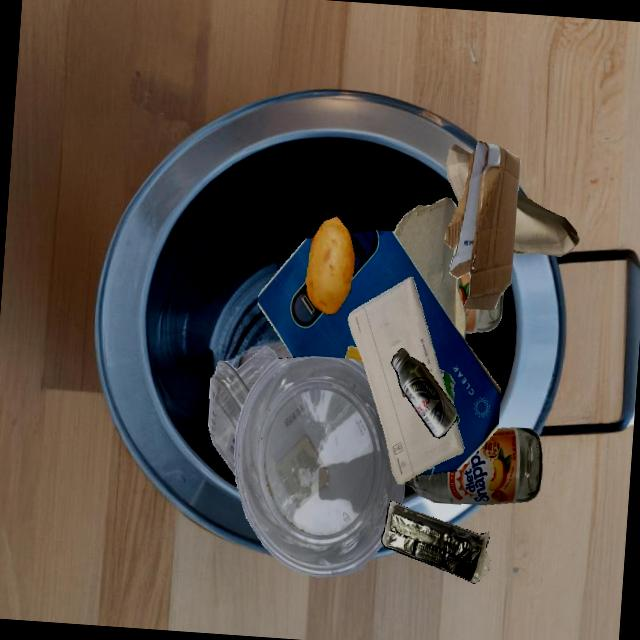biowaste: (305, 216, 355, 313)
cardboard: (444, 141, 520, 310), (393, 197, 466, 340), (344, 358, 457, 413)
glass: (405, 427, 542, 504), (463, 292, 503, 333), (458, 272, 469, 307)
metal: (390, 348, 457, 438)
paper: (257, 230, 500, 475), (347, 277, 464, 484), (513, 192, 579, 256), (446, 143, 471, 201)
plastic: (234, 356, 405, 576), (381, 500, 490, 583), (208, 345, 277, 475)
